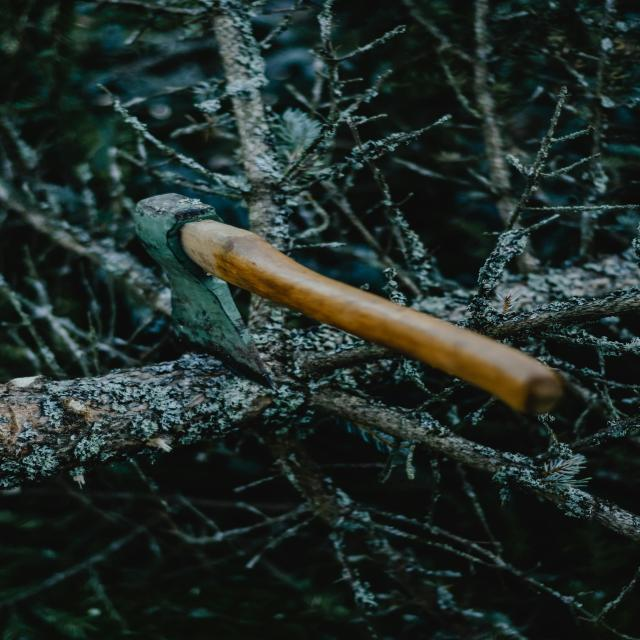Axe: (138, 194, 566, 413)
